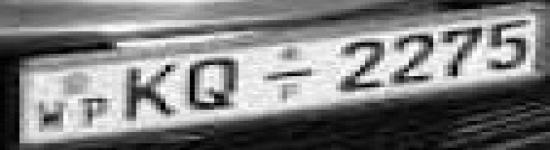-: (260, 64, 316, 84)
2: (335, 40, 391, 94), (391, 29, 437, 86)
5: (487, 17, 531, 74)
7: (439, 23, 487, 80)
K: (118, 61, 186, 124)
P: (77, 94, 112, 130)
Q: (185, 52, 247, 114)
W: (31, 99, 72, 135)
